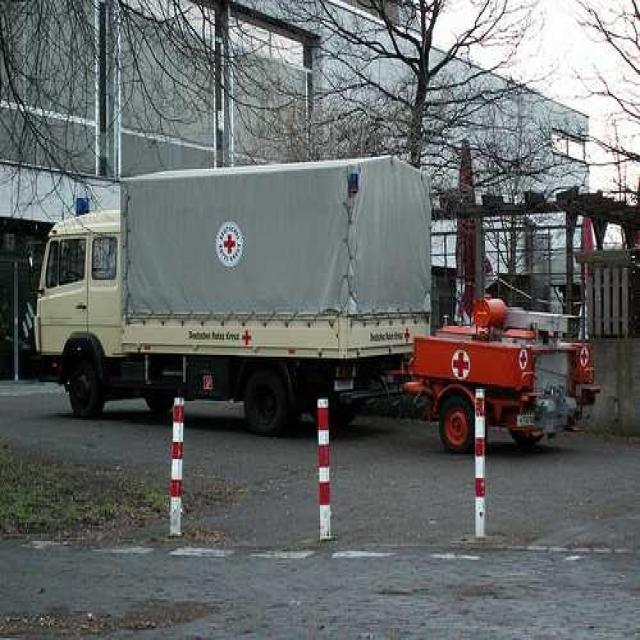ambulance: (30, 146, 442, 401)
